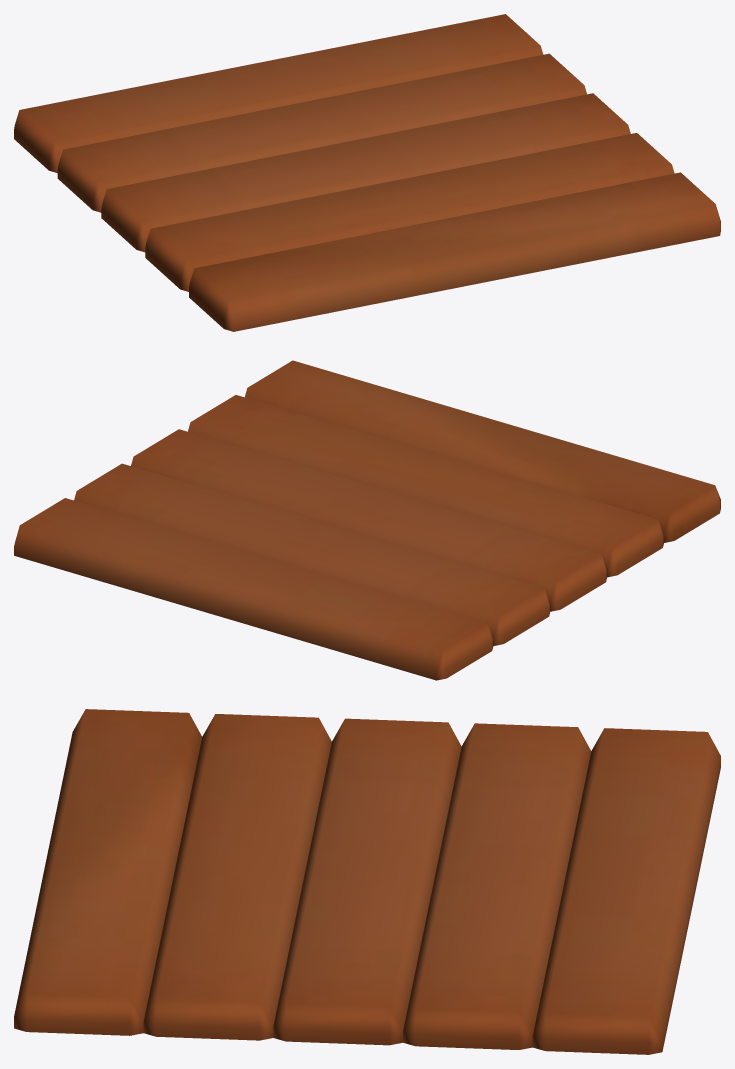
The model's file is platform_002.fbx.
The picture shows the model from 3 angles, top to bottom: view 1: azimuth 30°, elevation 25°; view 2: azimuth 150°, elevation 25°; view 3: azimuth 270°, elevation 25°; orthographic projection. The views are drawn at different scales.
Visible parts, largest first — view 1: platform_002; view 2: platform_002; view 3: platform_002.
Boxes of the visible parts, x1,y1,x2,y2 form: platform_002: (14, 14, 720, 331); platform_002: (14, 360, 720, 680); platform_002: (14, 709, 720, 1054).
Size of the model in its own units: 76.16 by 3.99 by 72.53.
